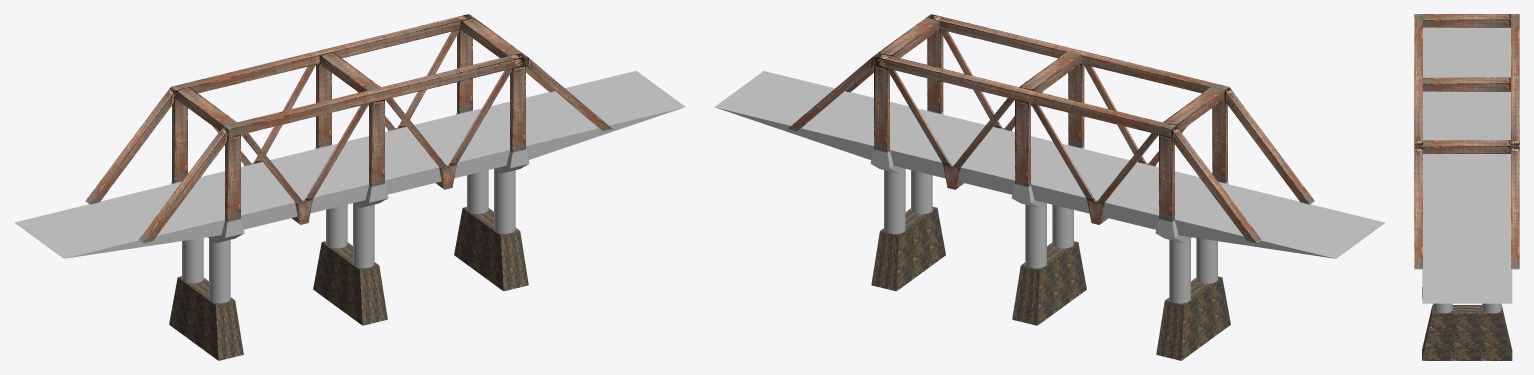
Rendered from bridge.obj.
3 renders of one model, left to right at view 1: azimuth 30°, elevation 25°; view 2: azimuth 150°, elevation 25°; view 3: azimuth 270°, elevation 25°, orthographic. The views are drawn at different scales.
Visible parts, largest first — view 1: Box13, Box28, Box01, Box49, Box48, Box08, Box44, Box45, Cylinder02, Cylinder05, Cylinder03, Box26 (+18 smaller); view 2: Box13, Box08, Box01, Box48, Box49, Box28, Box44, Box45, Cylinder01, Cylinder04, Cylinder06, Box23 (+18 smaller); view 3: Box13, Box01, Box42, Box41, Box43, Box08, Box28, Box46, Box47, Cylinder06, Cylinder05.
Boxes of the visible parts, x1,y1,x2,y2 form: Box13: [14, 71, 685, 258]; Box28: [224, 53, 526, 137]; Box01: [454, 207, 528, 291]; Box49: [169, 276, 243, 360]; Box48: [313, 241, 387, 325]; Box08: [171, 14, 473, 93]; Box44: [138, 126, 228, 243]; Box45: [85, 87, 175, 204]; Cylinder02: [209, 238, 230, 303]; Cylinder05: [494, 169, 515, 233]; Cylinder03: [353, 203, 374, 268]; Box26: [369, 100, 384, 186]; Box13: [714, 71, 1385, 258]; Box08: [873, 53, 1175, 137]; Box01: [871, 207, 945, 291]; Box48: [1012, 241, 1086, 325]; Box49: [1156, 276, 1230, 360]; Box28: [926, 14, 1228, 93]; Box44: [1224, 87, 1314, 204]; Box45: [1171, 126, 1261, 243]; Cylinder01: [1169, 238, 1190, 303]; Cylinder04: [1025, 203, 1046, 268]; Cylinder06: [884, 169, 905, 233]; Box23: [1015, 99, 1030, 187]; Box13: [1422, 27, 1512, 303]; Box01: [1422, 305, 1512, 360]; Box42: [1423, 77, 1510, 91]; Box41: [1423, 14, 1510, 27]; Box43: [1423, 140, 1510, 153]; Box08: [1511, 14, 1519, 146]; Box28: [1414, 14, 1422, 146]; Box46: [1511, 146, 1519, 269]; Box47: [1414, 146, 1422, 269]; Cylinder06: [1482, 303, 1501, 313]; Cylinder05: [1433, 303, 1452, 313].
Bounding box in the file's own units: 660 × 237 × 107.
